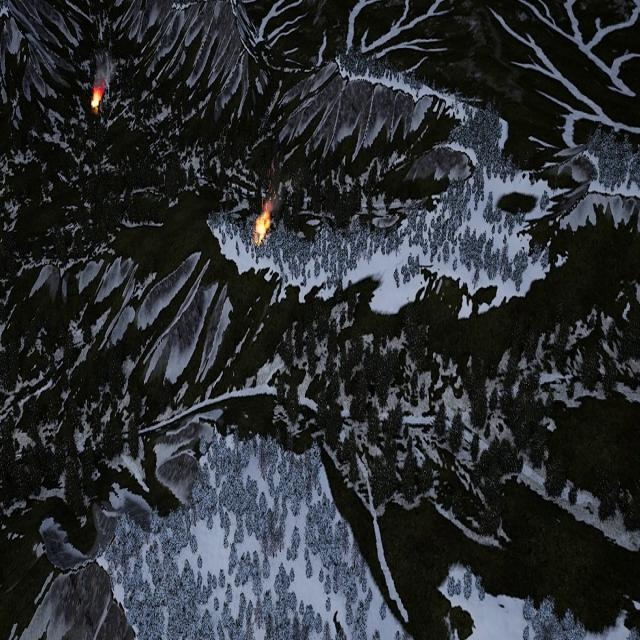fire: (256, 211, 272, 242), (92, 89, 103, 110)
smoke: (265, 174, 285, 218), (92, 49, 112, 89)
